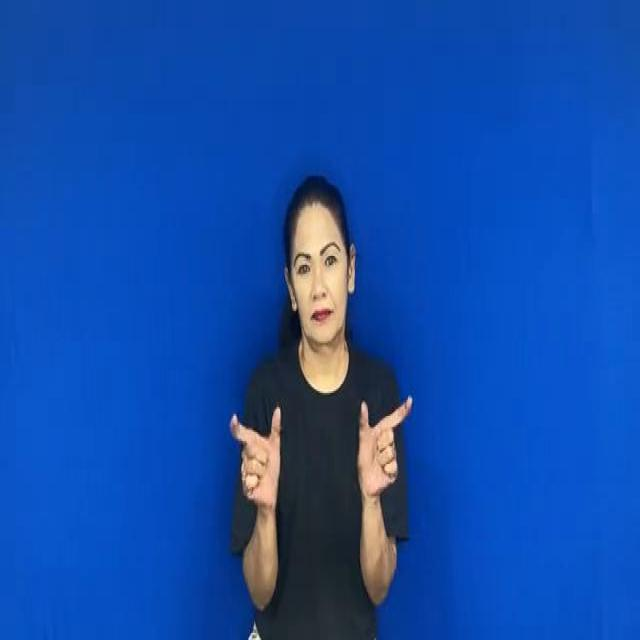crab: (221, 380, 421, 510)
